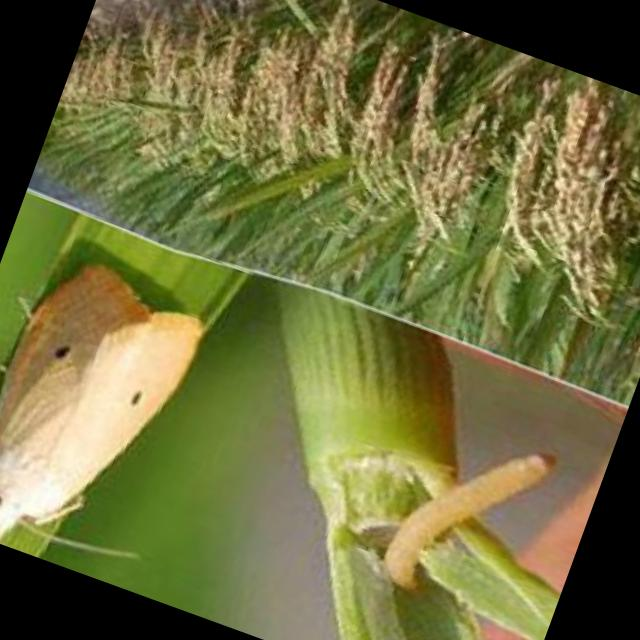stem-borer: (0, 227, 222, 587)
